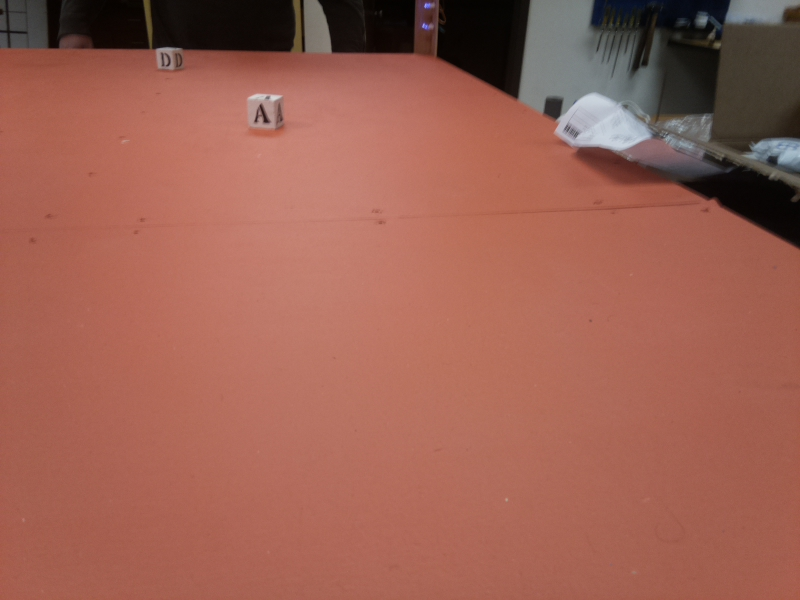blockA: (248, 93, 284, 132)
blockD: (156, 47, 184, 74)
corner: (412, 1, 440, 61)
